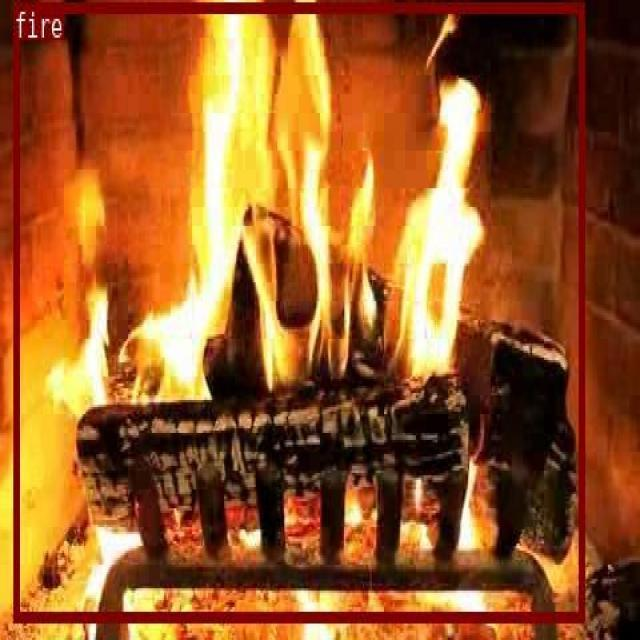fire: (13, 1, 583, 620)
